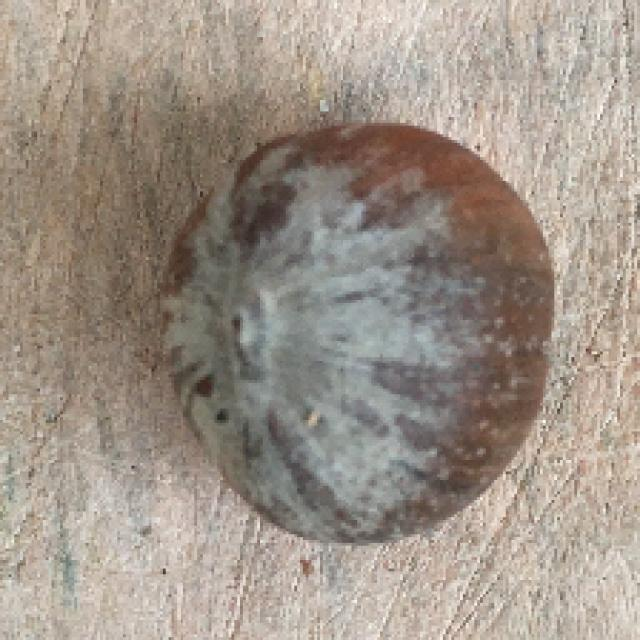qualityHazelnut: (162, 115, 554, 543)
